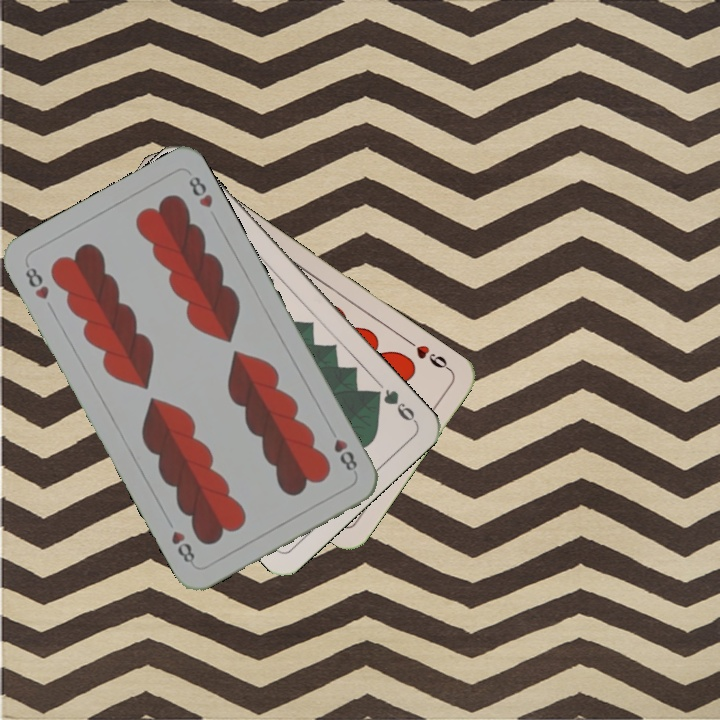G9: (367, 384, 419, 425)
H8: (324, 423, 360, 474), (21, 260, 52, 303)
H9: (402, 334, 453, 374)
